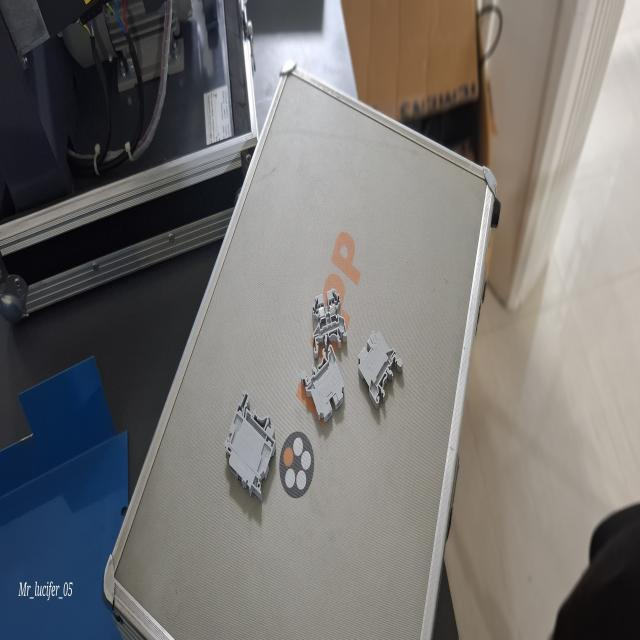Inverted: (225, 390, 277, 503), (358, 330, 404, 410), (300, 343, 345, 422)
Pass: (312, 287, 348, 357)
